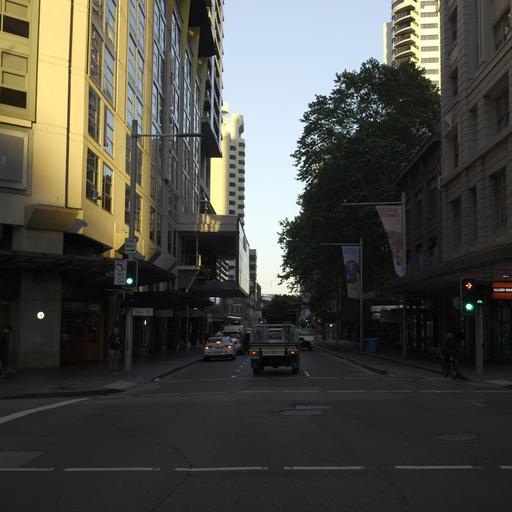Street light: (120, 128, 203, 373), (340, 193, 408, 357), (318, 237, 363, 350), (460, 276, 476, 315), (122, 258, 138, 289)
